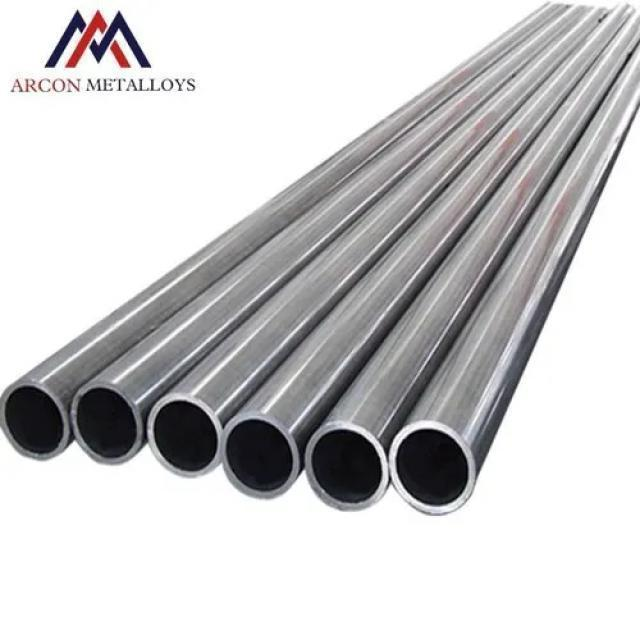pipe: (398, 430, 469, 507), (312, 431, 381, 504), (228, 420, 291, 492), (156, 402, 218, 472), (77, 389, 136, 459), (5, 388, 62, 454)
